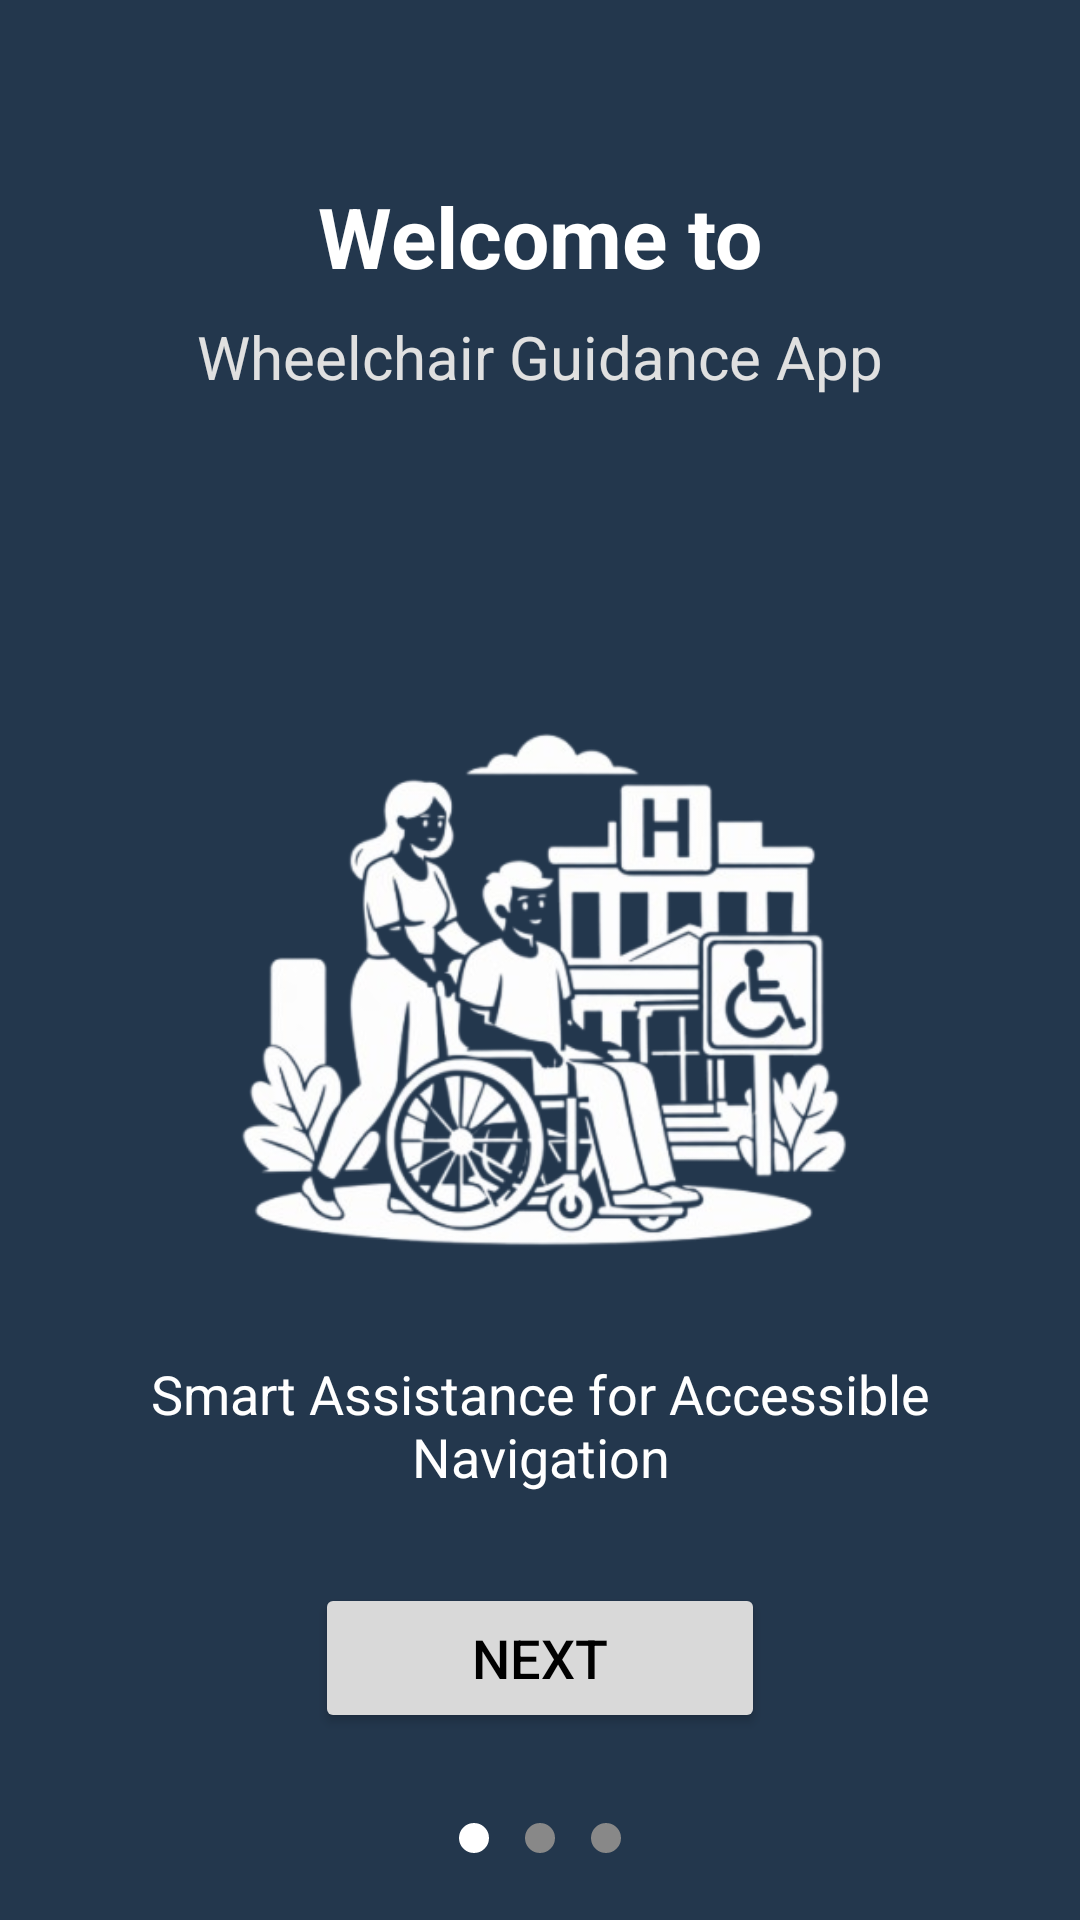

Screen size 1080x1920. Icon name, then its box in pixels as {"left": x1, "top": y1, "right": x2, "bottom": y2}:
dot: {"left": 459, "top": 1823, "right": 489, "bottom": 1853}, {"left": 525, "top": 1823, "right": 555, "bottom": 1853}, {"left": 591, "top": 1823, "right": 621, "bottom": 1853}
